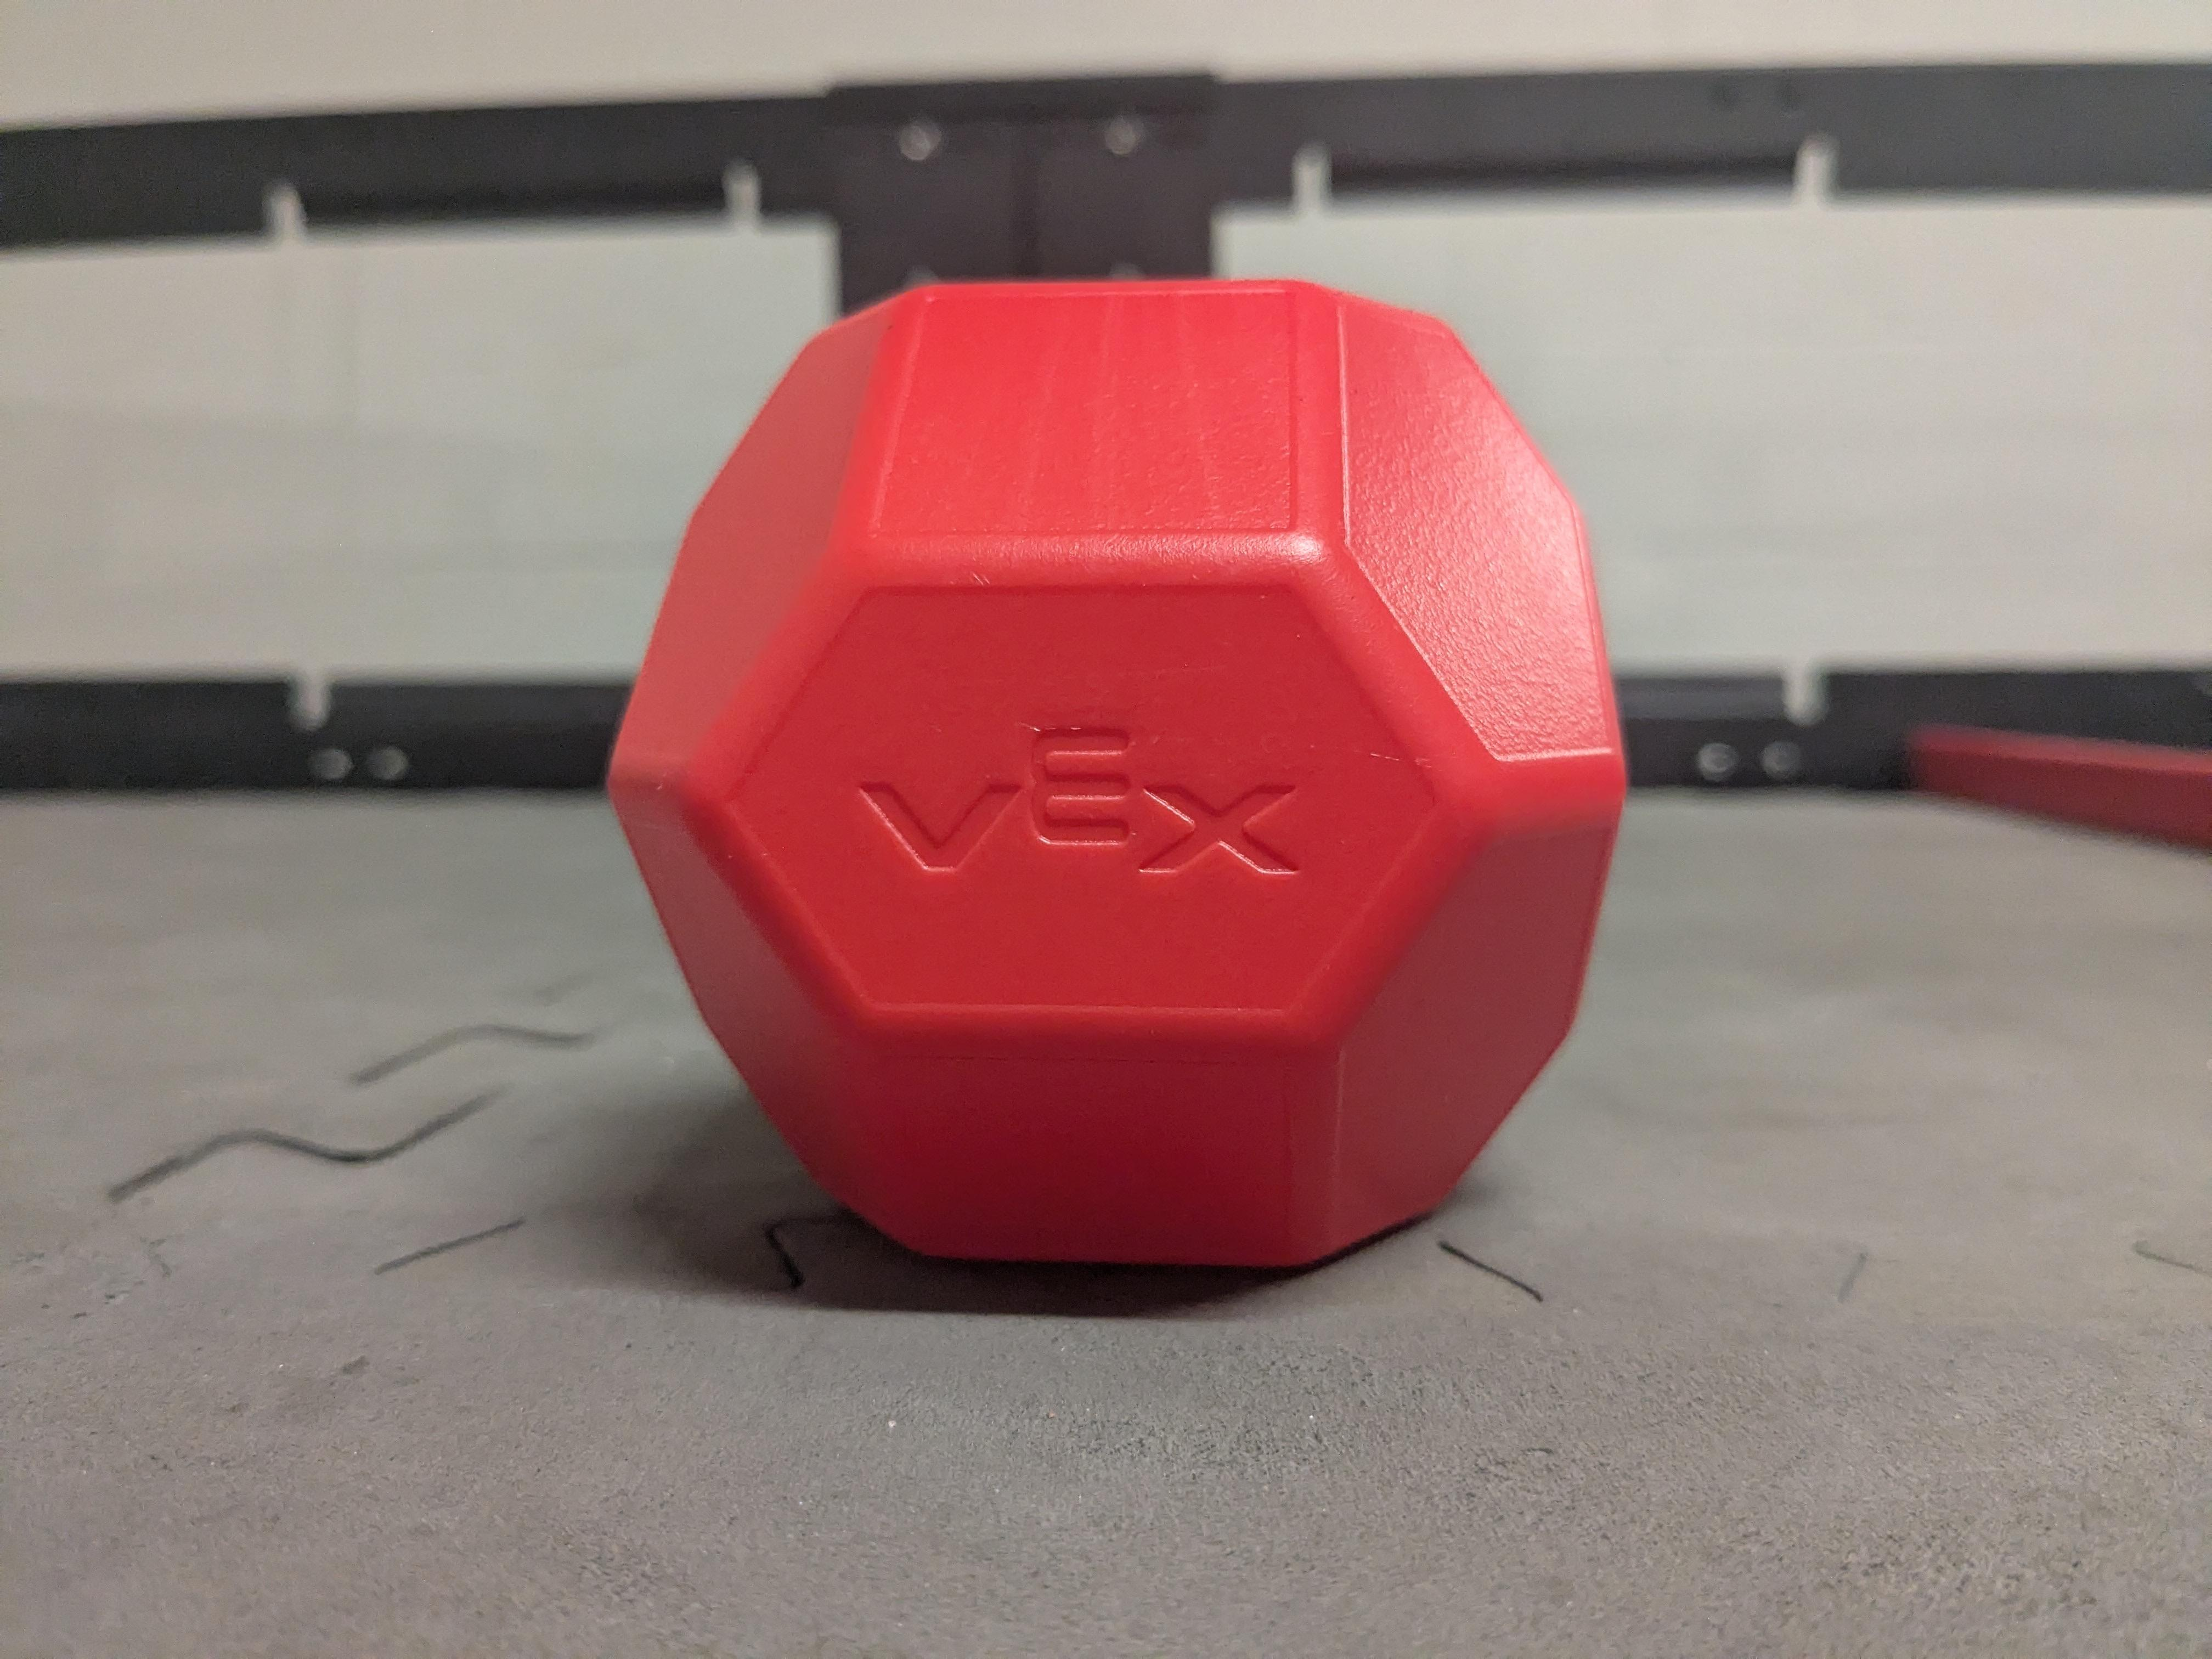Vex-Pieces-RED: (610, 279, 1625, 1265)
